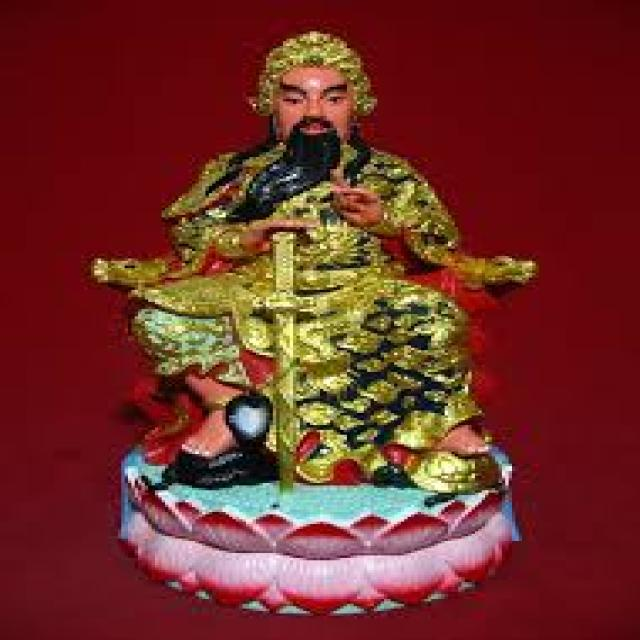Xuan wu: (150, 24, 476, 491)
